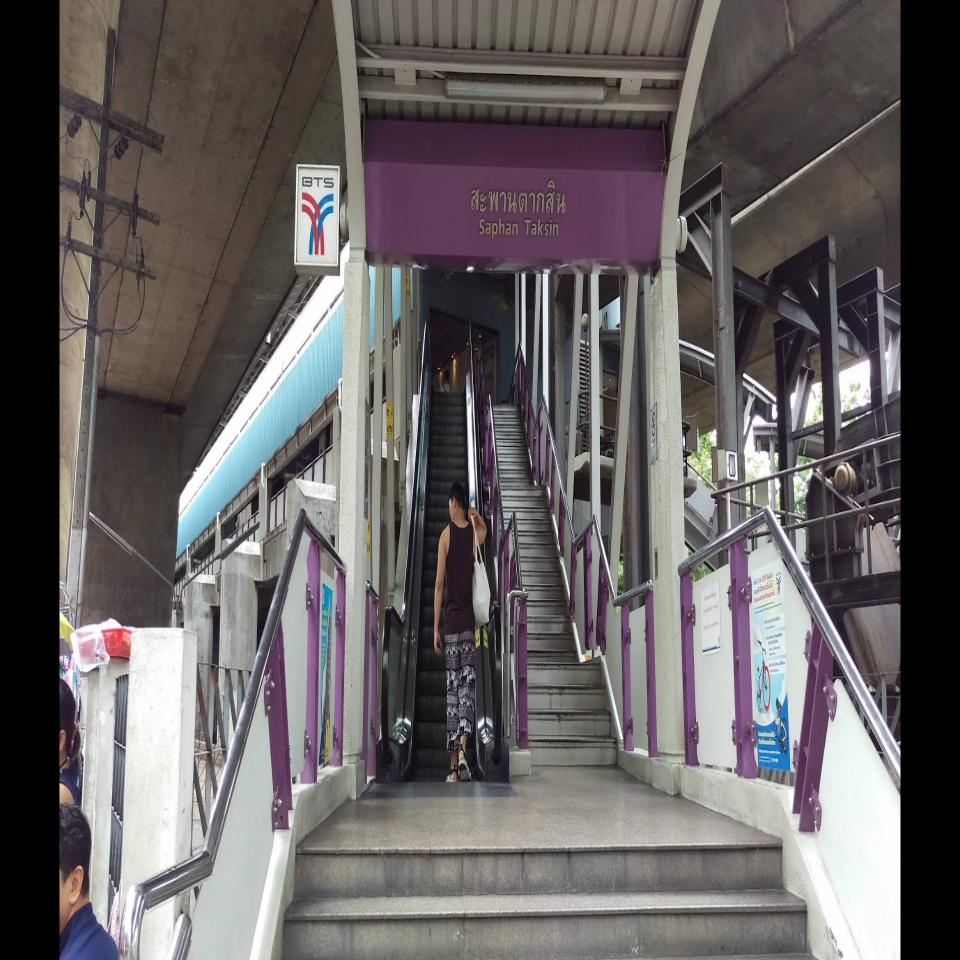Saphan Taksin: (294, 161, 667, 266), (364, 160, 667, 264)
